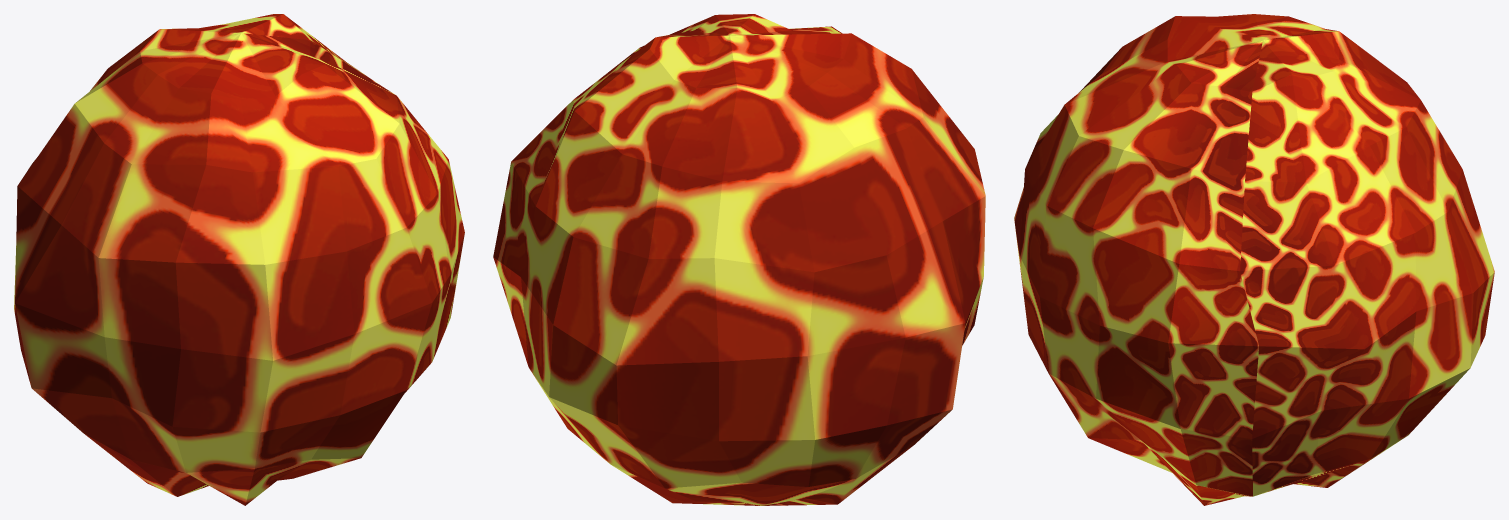
Rendered from Meteor.obj.
3 renders of one model, left to right at view 1: azimuth 30°, elevation 25°; view 2: azimuth 150°, elevation 25°; view 3: azimuth 270°, elevation 25°, orthographic. The views are drawn at different scales.
Parts seen in each view (by area): view 1: Sphere; view 2: Sphere; view 3: Sphere.
Boxes of the visible parts, box(x1,y1,x2,y2) form: Sphere: box(14, 14, 464, 505); Sphere: box(493, 14, 985, 505); Sphere: box(1014, 14, 1494, 505).
Size of the model in its own units: 2.1 by 2.08 by 2.
1 material, 1 textured.
